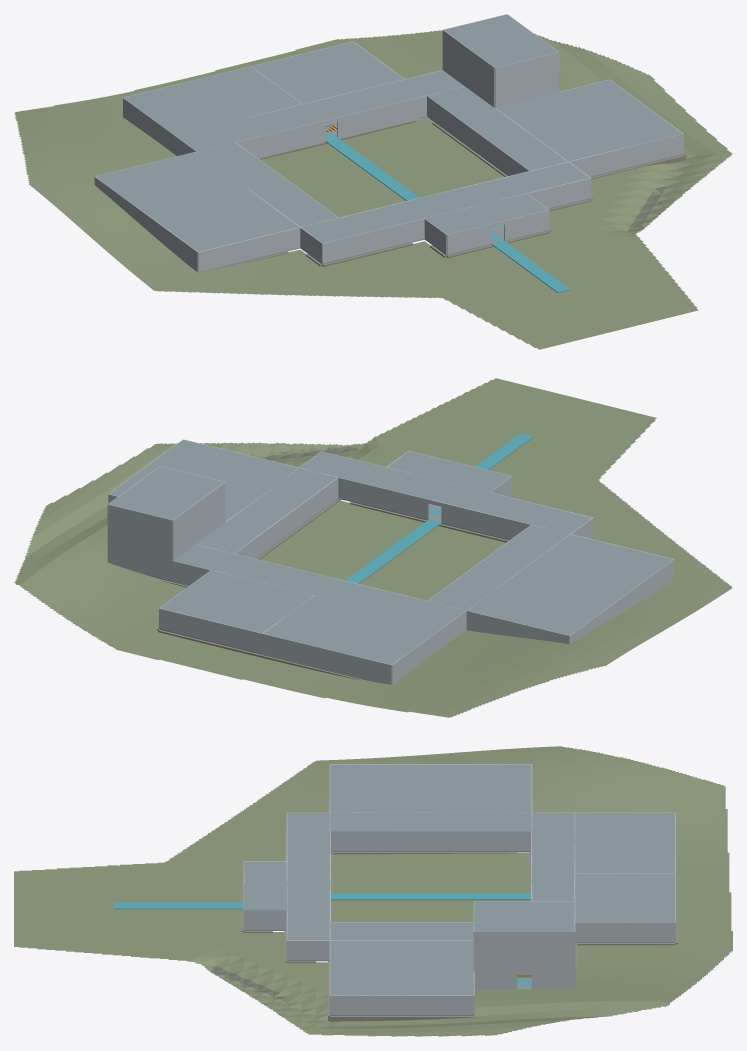
File: supported-terrain.glb
3 views of the same model, one above another, from view 1: azimuth 30°, elevation 25°; view 2: azimuth 150°, elevation 25°; view 3: azimuth 270°, elevation 25° (orthographic). The views are drawn at different scales.
Parts seen in each view (by area): view 1: Saved editor macroterrain WLD-10, Ceiling cap dorm, Ceiling cap refectory, Ceiling cap archive, Ceiling cap north, Ceiling cap south, Ceiling cap vestry, Ceiling cap west, Ceiling cap east, Ceiling cap bell, Ceiling cap gatehouse, Wall refectory S (+15 smaller); view 2: Saved editor macroterrain WLD-10, Ceiling cap dorm, Ceiling cap archive, Ceiling cap north, Ceiling cap south, Ceiling cap vestry, Ceiling cap refectory, Ceiling cap west, Ceiling cap east, Ceiling cap bell, Wall archive N, Wall tower-base N (+13 smaller); view 3: Saved editor macroterrain WLD-10, Ceiling cap dorm, Ceiling cap refectory, Ceiling cap archive, Ceiling cap south, Ceiling cap vestry, Wall west E, Ceiling cap north, Ceiling cap west, Ceiling cap bell, Wall refectory E, Ceiling cap east (+9 smaller).
Boxes of the visible parts, box(x1,y1,x2,y2) form: Saved editor macroterrain WLD-10: box(14, 30, 732, 349); Ceiling cap dorm: box(95, 152, 299, 251); Ceiling cap refectory: box(496, 80, 682, 161); Ceiling cap archive: box(124, 66, 301, 135); Ceiling cap north: box(175, 70, 464, 151); Ceiling cap south: box(301, 162, 589, 243); Ceiling cap vestry: box(252, 42, 403, 103); Ceiling cap west: box(197, 142, 338, 226); Ceiling cap east: box(427, 86, 567, 170); Ceiling cap bell: box(444, 14, 558, 67); Ceiling cap gatehouse: box(425, 193, 548, 234); Wall refectory S: box(568, 134, 683, 176); Saved editor macroterrain WLD-10: box(14, 378, 732, 717); Ceiling cap dorm: box(467, 534, 672, 635); Ceiling cap archive: box(263, 595, 443, 664); Ceiling cap north: box(174, 544, 465, 626); Ceiling cap south: box(300, 451, 591, 533); Ceiling cap vestry: box(160, 570, 313, 632); Ceiling cap refectory: box(109, 440, 298, 521); Ceiling cap west: box(428, 525, 569, 610); Ceiling cap east: box(196, 468, 337, 553); Ceiling cap bell: box(108, 466, 223, 519); Wall archive N: box(262, 633, 391, 684); Wall tower-base N: box(108, 525, 172, 580); Saved editor macroterrain WLD-10: box(14, 746, 732, 1036); Ceiling cap dorm: box(330, 764, 531, 812); Ceiling cap refectory: box(330, 941, 473, 995); Ceiling cap archive: box(574, 813, 675, 873); Ceiling cap south: box(287, 813, 330, 940); Ceiling cap vestry: box(575, 874, 675, 922); Wall west E: box(331, 831, 530, 850); Ceiling cap north: box(531, 813, 574, 901); Ceiling cap west: box(330, 813, 531, 831); Ceiling cap bell: box(474, 901, 574, 931); Wall refectory E: box(330, 995, 473, 1014); Ceiling cap east: box(330, 922, 473, 940).
Size of the model in its own units: 92 by 12.16 by 100.
